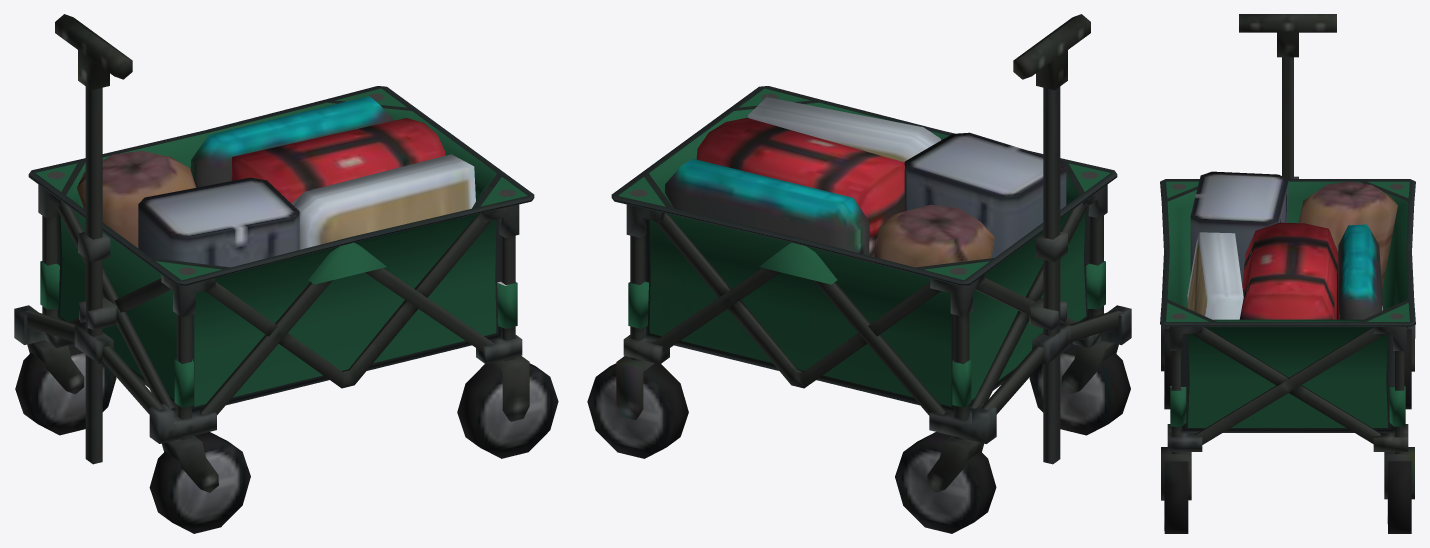
3 renders of one model, left to right at view 1: azimuth 30°, elevation 25°; view 2: azimuth 150°, elevation 25°; view 3: azimuth 270°, elevation 25°, orthographic. The views are drawn at different scales.
Bounding box in the file's own units: 9.99 × 10.74 × 6.66.
Materials: 2 (2 with a texture image).
